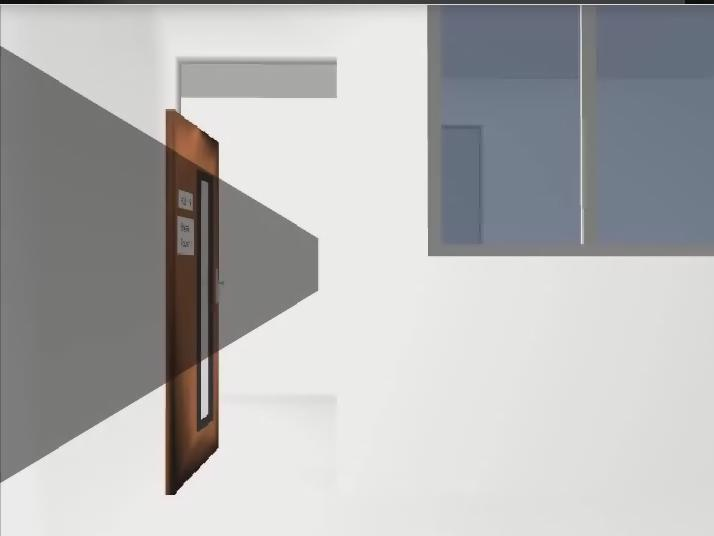door: (166, 110, 219, 494)
